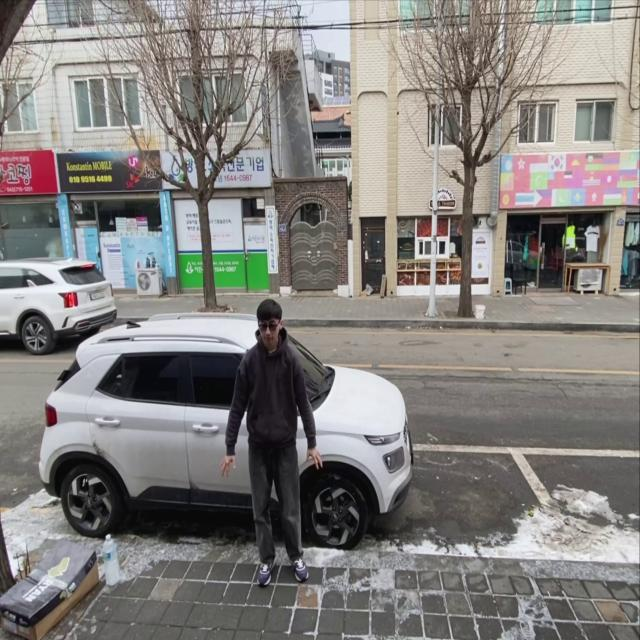bare_hand: (304, 443, 326, 471), (217, 453, 237, 480)
